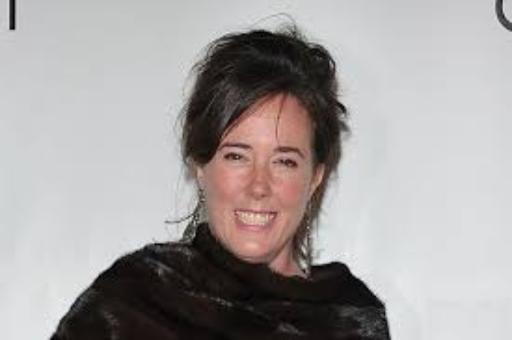left_eye: (274, 157, 302, 171)
left_lip_corner: (272, 208, 286, 221)
right_eye: (221, 153, 250, 166)
right_lip_corner: (231, 206, 242, 217)
